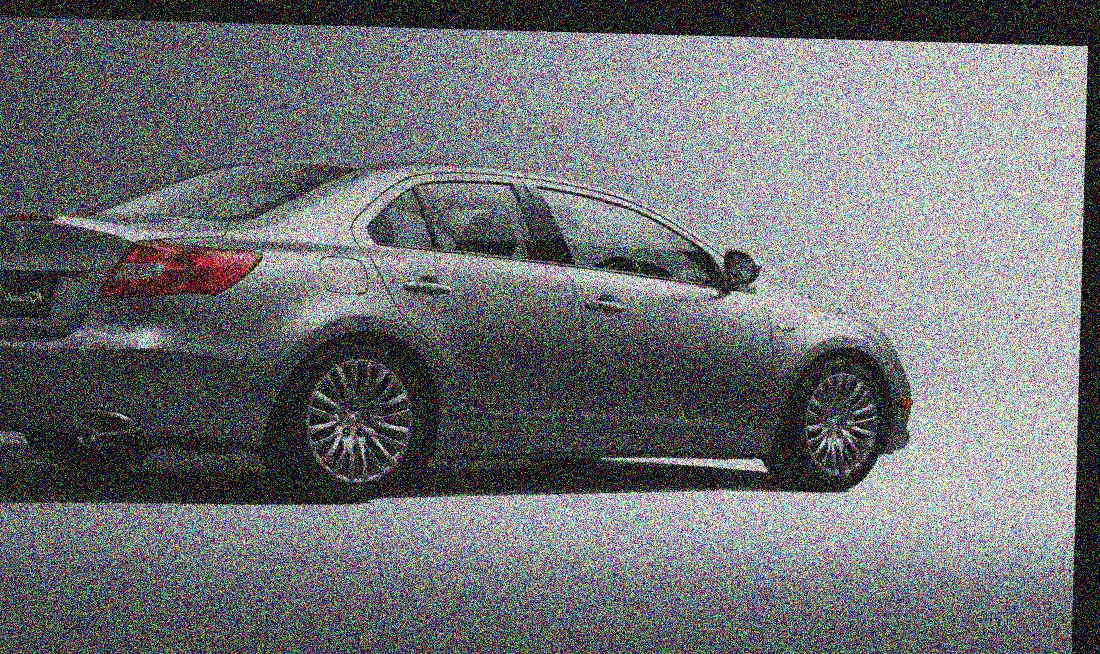car: (0, 132, 954, 540)
